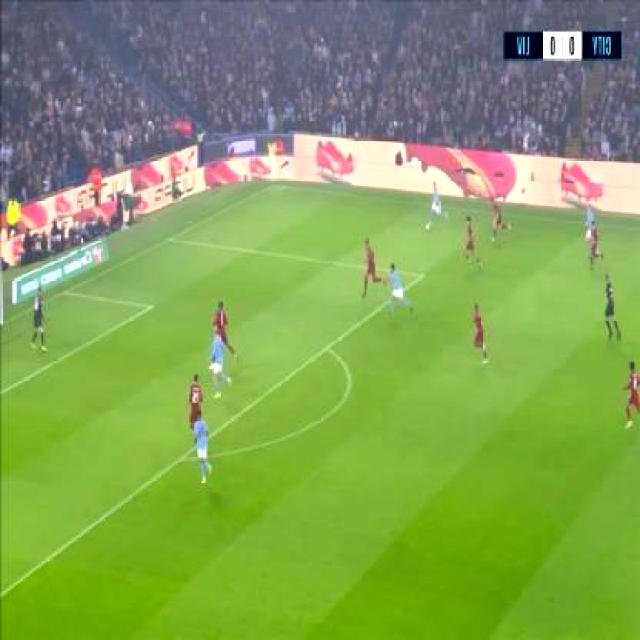bigarea_top_inner: (417, 268, 426, 284)
bigarea_top_outter: (164, 232, 176, 246)
bottom_arc_area_intersection: (176, 449, 190, 468)
corner: (266, 185, 279, 192)
smallarea_top_inner: (143, 296, 157, 318)
smallarea_top_outter: (60, 286, 71, 299)
top_arc_area_intersection: (318, 338, 334, 360)
